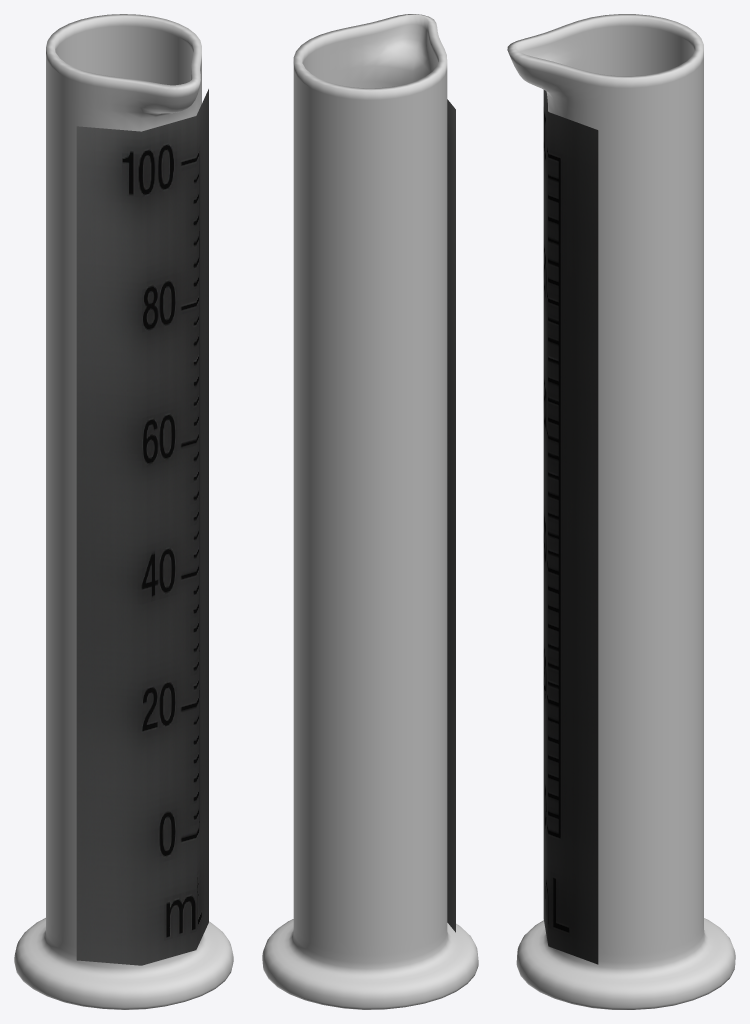
Rendered from Gelas ukur 101.fbx.
3 views of the same model, side by side, from view 1: azimuth 30°, elevation 25°; view 2: azimuth 150°, elevation 25°; view 3: azimuth 270°, elevation 25° (orthographic).
Visible parts, largest first — view 1: teks Gelas ukur 100ml, Gelas ukur 100ml; view 2: Gelas ukur 100ml, teks Gelas ukur 100ml; view 3: Gelas ukur 100ml, teks Gelas ukur 100ml.
Part boxes in pixels (box(x1,y1,x2,y2)): teks Gelas ukur 100ml: box(76, 89, 208, 965); Gelas ukur 100ml: box(14, 14, 233, 1009); Gelas ukur 100ml: box(262, 14, 478, 1009); teks Gelas ukur 100ml: box(447, 99, 455, 932); Gelas ukur 100ml: box(507, 14, 735, 1009); teks Gelas ukur 100ml: box(543, 90, 598, 964).
Size of the model in its own units: 0.0262 by 0.1218 by 0.0273.
2 materials, 1 textured.
